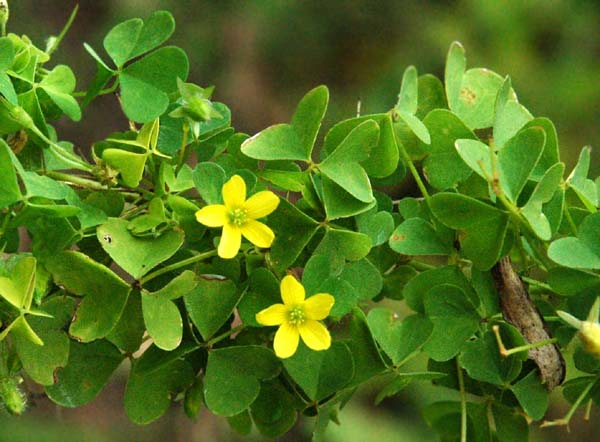oxalis: (313, 53, 600, 403), (18, 52, 230, 402)
